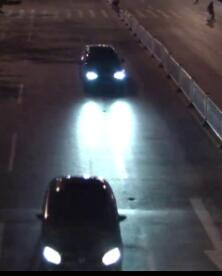car: (33, 175, 128, 269), (77, 43, 128, 94)
